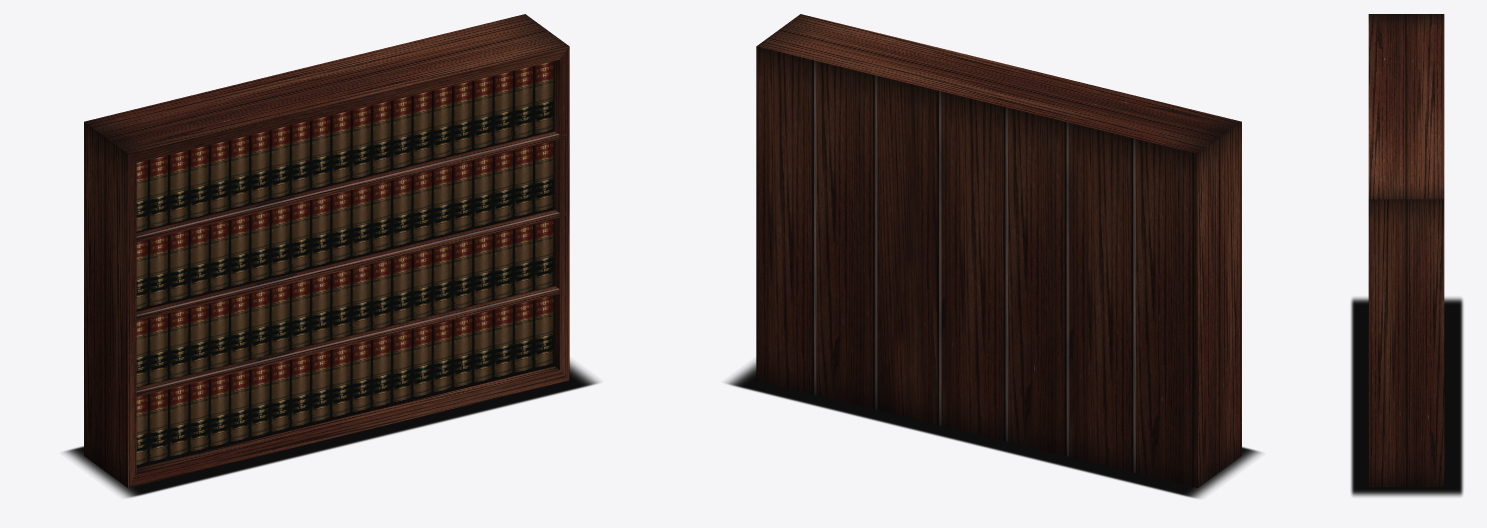
Rendered from law_bookshelf.glb.
3 views of the same model, side by side, from view 1: azimuth 30°, elevation 25°; view 2: azimuth 150°, elevation 25°; view 3: azimuth 270°, elevation 25° (orthographic). The views are drawn at different scales.
Parts seen in each view (by area): view 1: polySurface1, pCube1, shadow, pCube6, pCube5, pCube2; view 2: pCube1, shadow; view 3: pCube1, shadow.
Boxes of the visible parts, x1,y1,x2,y2 form: polySurface1: (136,61,554,467); pCube1: (84,14,569,487); shadow: (64,361,598,497); pCube6: (133,131,566,242); pCube5: (133,209,566,321); pCube2: (135,285,559,397); pCube1: (756,14,1241,487); shadow: (726,361,1260,498); pCube1: (1368,14,1444,486); shadow: (1351,297,1463,496).
Size of what is drawn, in the model's own units: 3.36 by 1.93 by 0.8022.
Materials: 3 (3 with a texture image).
